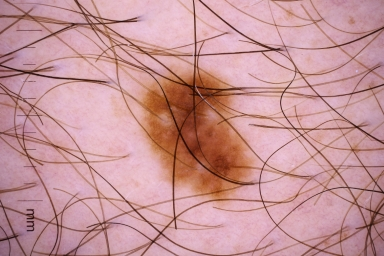nevus: (146, 76, 247, 206)
